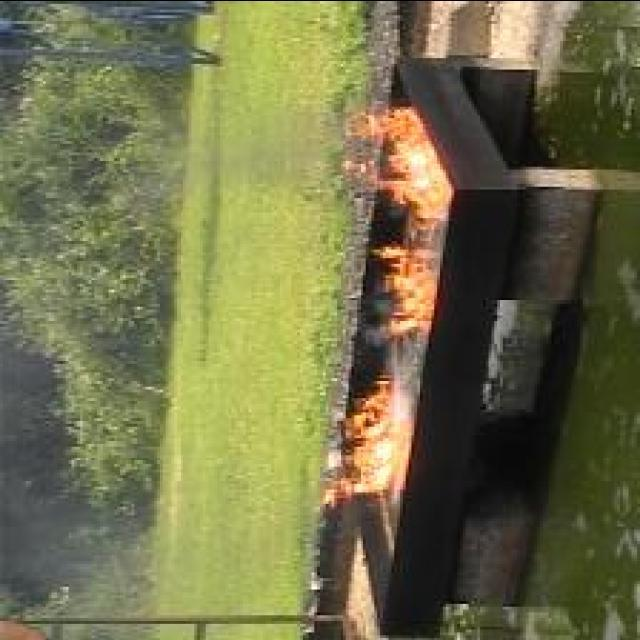Fire: (340, 105, 454, 228), (318, 370, 404, 504), (371, 244, 438, 336)
